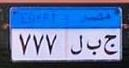7: (45, 32, 58, 57), (18, 32, 31, 55), (32, 32, 44, 56)
baa: (85, 39, 102, 56)
jeem: (103, 33, 118, 58)
laam: (70, 33, 83, 56)
